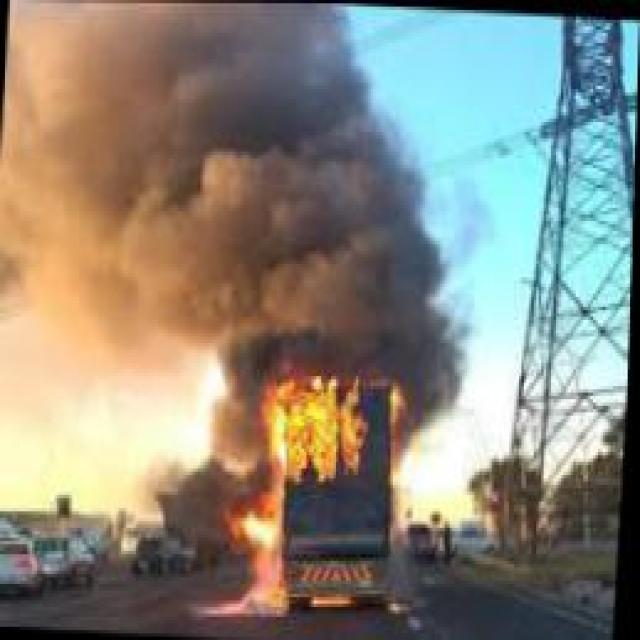Fire: (224, 356, 410, 617)
Smoke: (0, 0, 514, 383)
